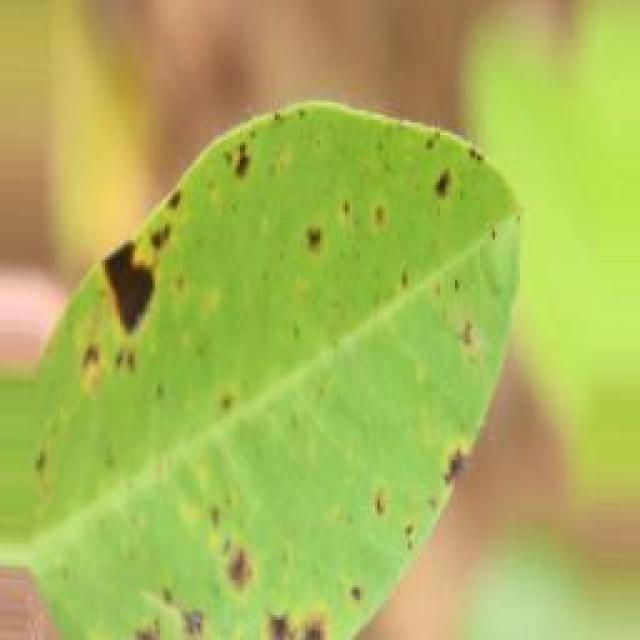Yellowish: (59, 108, 484, 640)
